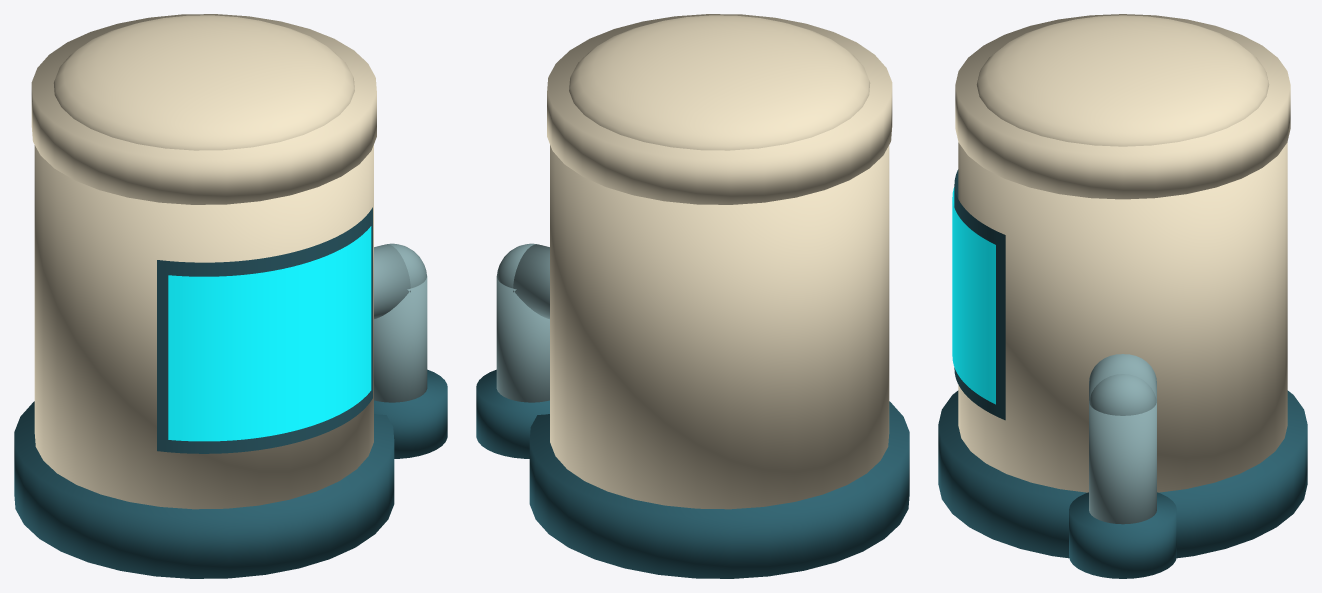
File: refinery.glb
The picture shows the model from 3 angles, left to right: view 1: azimuth 30°, elevation 25°; view 2: azimuth 150°, elevation 25°; view 3: azimuth 270°, elevation 25°; orthographic projection. The views are drawn at different scales.
Visible parts, largest first — view 1: Refinery tank, Window turquoise glass, Rounded refinery crown, Refinery base, Refinery lid, Window dark border, Refinery pipe, Pipe foot, Refinery pipe connection, Pipe elbow; view 2: Refinery tank, Rounded refinery crown, Refinery base, Refinery lid, Refinery pipe, Pipe foot, Refinery pipe connection, Pipe elbow; view 3: Refinery tank, Rounded refinery crown, Refinery lid, Refinery base, Refinery pipe, Window turquoise glass, Pipe foot, Window dark border, Pipe elbow, Refinery pipe connection.
Boxes of the visible parts, x1,y1,x2,y2 form: Refinery tank: [34, 145, 373, 509]; Window turquoise glass: [168, 226, 371, 441]; Rounded refinery crown: [53, 15, 354, 150]; Refinery base: [14, 401, 394, 578]; Refinery lid: [31, 14, 376, 204]; Window dark border: [157, 207, 372, 453]; Refinery pipe: [374, 274, 427, 402]; Pipe foot: [374, 369, 447, 458]; Refinery pipe connection: [374, 244, 410, 319]; Pipe elbow: [387, 243, 426, 288]; Refinery tank: [550, 145, 889, 509]; Rounded refinery crown: [569, 15, 870, 150]; Refinery base: [529, 401, 909, 578]; Refinery lid: [547, 14, 892, 204]; Refinery pipe: [496, 274, 549, 402]; Pipe foot: [476, 369, 549, 458]; Refinery pipe connection: [513, 244, 549, 319]; Pipe elbow: [497, 243, 536, 288]; Refinery tank: [958, 142, 1287, 492]; Rounded refinery crown: [976, 15, 1269, 146]; Refinery lid: [955, 14, 1290, 199]; Refinery base: [938, 390, 1307, 558]; Refinery pipe: [1089, 401, 1156, 524]; Window turquoise glass: [952, 187, 995, 404]; Pipe foot: [1069, 492, 1176, 578]; Window dark border: [954, 169, 1005, 420]; Pipe elbow: [1089, 374, 1156, 415]; Refinery pipe connection: [1089, 354, 1156, 400].
Bounding box in the file's own units: 1.58 × 1.68 × 1.3.
